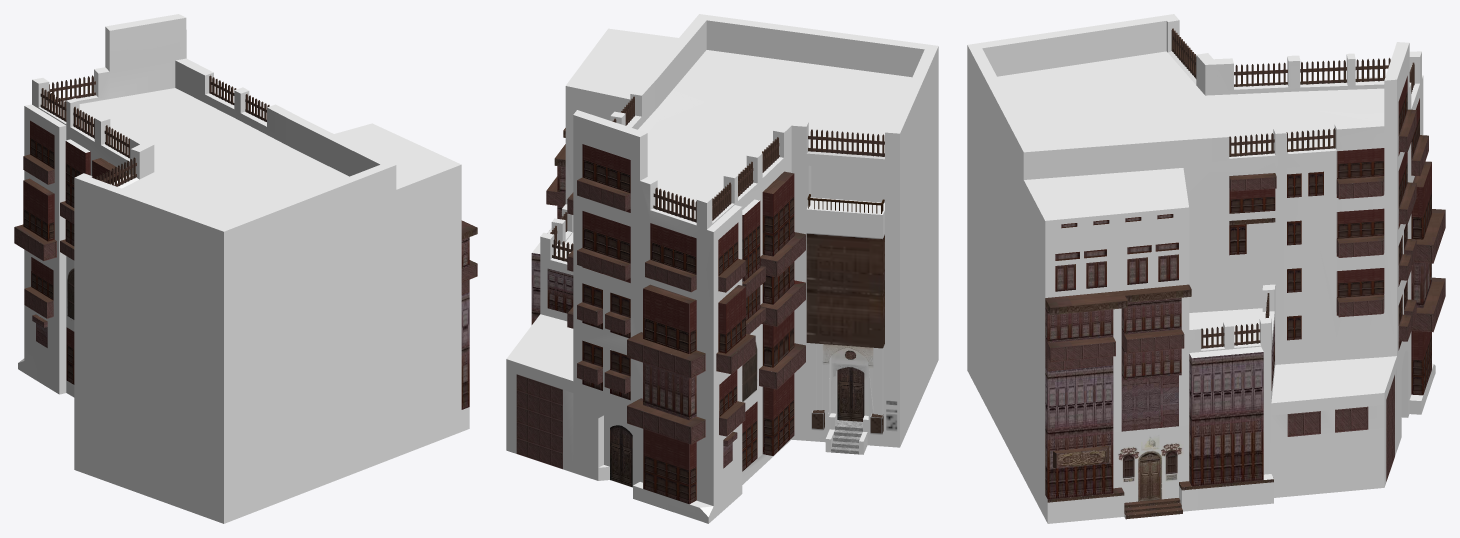
3 views of the same model, side by side, from view 1: azimuth 30°, elevation 25°; view 2: azimuth 150°, elevation 25°; view 3: azimuth 270°, elevation 25° (orthographic). The views are drawn at different scales.
Parts seen in each view (by area): view 1: Line001_primitive12, Line001_primitive3, Line001_primitive13, Line001_primitive4, Line001_primitive7, Line001_primitive5; view 2: Line001_primitive12, Line001_primitive3, Line001_primitive4, Line001_primitive1, Line001_primitive13, Line001_primitive0, Line001_primitive6, Line001_primitive7, Line001_primitive2, Line001_primitive5; view 3: Line001_primitive12, Line001_primitive7, Line001_primitive13, Line001_primitive3, Line001_primitive4, Line001_primitive6, Line001_primitive11, Line001_primitive10, Line001_primitive8, Line001_primitive9.
Boxes of the visible parts, <box> form: Line001_primitive12: <box>18,14,469,523</box>; Line001_primitive3: <box>23,120,126,384</box>; Line001_primitive13: <box>15,75,476,322</box>; Line001_primitive4: <box>14,156,477,318</box>; Line001_primitive7: <box>461,292,469,409</box>; Line001_primitive5: <box>66,258,74,321</box>; Line001_primitive12: <box>506,14,938,523</box>; Line001_primitive3: <box>582,144,804,504</box>; Line001_primitive4: <box>516,180,805,469</box>; Line001_primitive1: <box>806,233,897,434</box>; Line001_primitive13: <box>547,96,884,440</box>; Line001_primitive0: <box>610,344,873,487</box>; Line001_primitive6: <box>557,166,696,420</box>; Line001_primitive7: <box>531,253,573,324</box>; Line001_primitive2: <box>831,420,862,454</box>; Line001_primitive5: <box>742,327,757,402</box>; Line001_primitive12: <box>967,14,1435,523</box>; Line001_primitive7: <box>1045,214,1274,499</box>; Line001_primitive13: <box>1045,28,1445,515</box>; Line001_primitive3: <box>1229,76,1431,395</box>; Line001_primitive4: <box>1045,111,1445,481</box>; Line001_primitive6: <box>1045,254,1431,380</box>; Line001_primitive11: <box>1113,425,1189,502</box>; Line001_primitive10: <box>1121,375,1178,431</box>; Line001_primitive8: <box>1045,218,1275,519</box>; Line001_primitive9: <box>1056,449,1107,468</box>.
Bounding box in the file's own units: 22.59 × 20.68 × 24.14.
14 materials, 14 textured.
